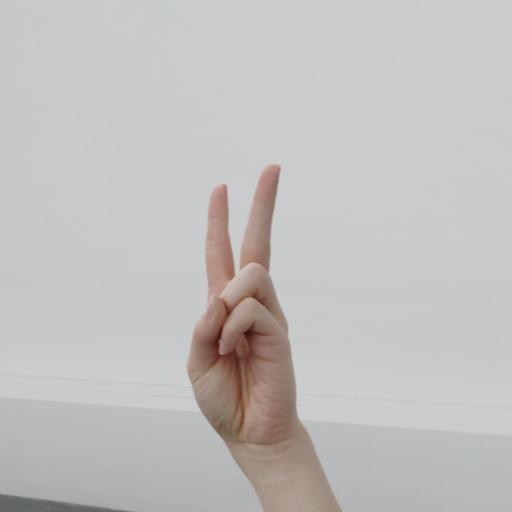V: (174, 143, 325, 454)
